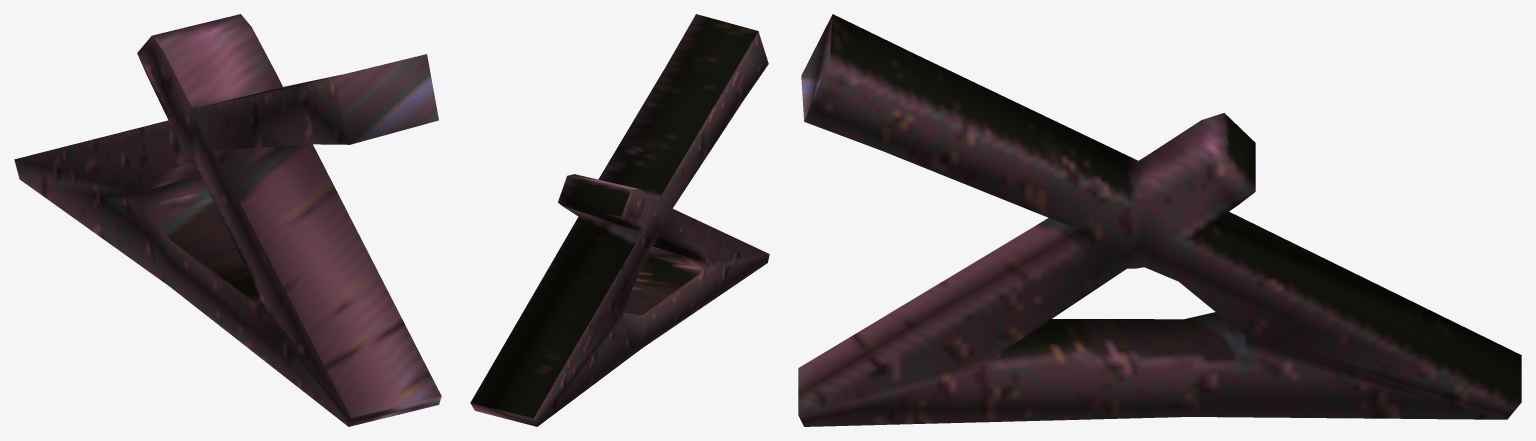
Rendered from end4.gltf.
The picture shows the model from 3 angles, left to right: view 1: azimuth 30°, elevation 25°; view 2: azimuth 150°, elevation 25°; view 3: azimuth 270°, elevation 25°; orthographic projection. The views are drawn at different scales.
Visible parts, largest first — view 1: mesh0_noesis_meshnode_0000; view 2: mesh0_noesis_meshnode_0000; view 3: mesh0_noesis_meshnode_0000.
Boxes of the visible parts, bbox=[...] form: mesh0_noesis_meshnode_0000: bbox=[14, 14, 441, 426]; mesh0_noesis_meshnode_0000: bbox=[470, 14, 769, 426]; mesh0_noesis_meshnode_0000: bbox=[798, 14, 1521, 426].
Size of the model in its own units: 4.05 by 14.46 by 25.81.
Materials: 1 (1 with a texture image).
